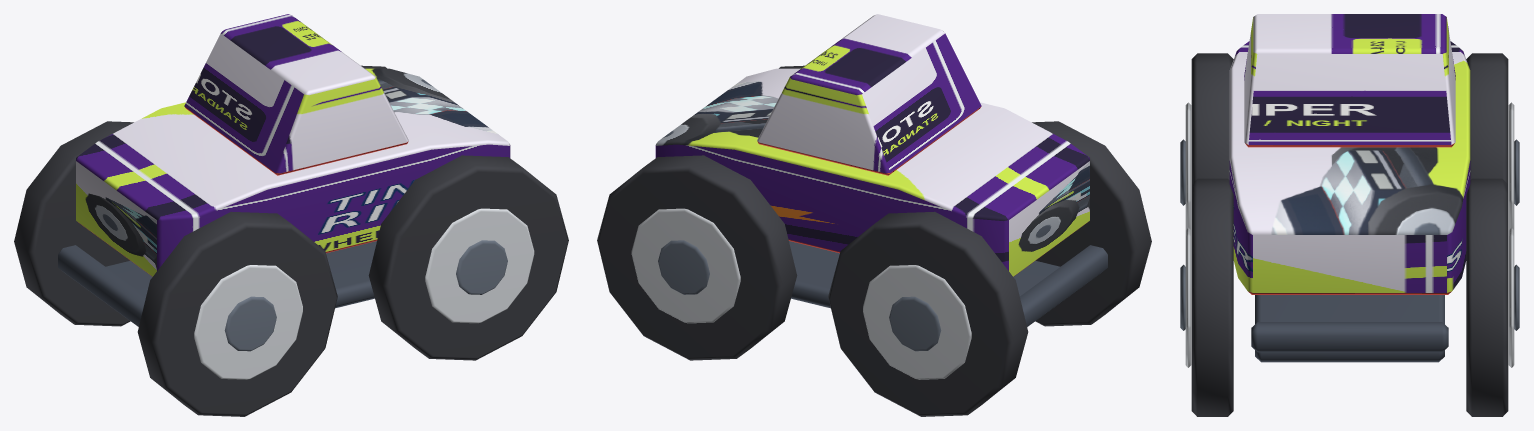
3 views of the same model, side by side, from view 1: azimuth 30°, elevation 25°; view 2: azimuth 150°, elevation 25°; view 3: azimuth 270°, elevation 25° (orthographic). The views are drawn at different scales.
Visible parts, largest first — view 1: BW-03_connected_shell, BW-03_cabin, Tire.002, Tire, Tire.001, Rim.002, Rim, underbody, front bumper, Hub.002, Hub; view 2: BW-03_connected_shell, BW-03_cabin, Tire.003, Tire.001, Tire, Rim.003, Rim.001, underbody, front bumper, Hub.003, Hub.001; view 3: BW-03_connected_shell, BW-03_cabin, Tire.002, Tire.003, underbody, rear bumper, Tire, Tire.001, Rim.002, Rim.003, Rim, Rim.001 (+4 smaller).
Boxes of the visible parts, left/top/right/bottom form: BW-03_connected_shell: left=76, top=68, right=510, bottom=276; BW-03_cabin: left=184, top=14, right=408, bottom=175; Tire.002: left=368, top=155, right=568, bottom=360; Tire: left=137, top=211, right=337, bottom=416; Tire.001: left=14, top=121, right=133, bottom=326; Rim.002: left=425, top=208, right=534, bottom=323; Rim: left=194, top=265, right=302, bottom=379; underbody: left=105, top=241, right=376, bottom=308; front bumper: left=58, top=245, right=145, bottom=326; Hub.002: left=456, top=240, right=507, bottom=294; Hub: left=224, top=296, right=276, bottom=351; BW-03_connected_shell: left=655, top=68, right=1089, bottom=276; BW-03_cabin: left=757, top=14, right=981, bottom=175; Tire.003: left=597, top=155, right=797, bottom=360; Tire.001: left=828, top=211, right=1028, bottom=416; Tire: left=1032, top=121, right=1151, bottom=326; Rim.003: left=631, top=208, right=740, bottom=323; Rim.001: left=863, top=265, right=971, bottom=379; underbody: left=789, top=241, right=1060, bottom=308; front bumper: left=1020, top=245, right=1107, bottom=326; Hub.003: left=658, top=240, right=709, bottom=294; Hub.001: left=889, top=296, right=941, bottom=351; BW-03_connected_shell: left=1229, top=41, right=1470, bottom=294; BW-03_cabin: left=1244, top=14, right=1455, bottom=147; Tire.002: left=1191, top=178, right=1233, bottom=416; Tire.003: left=1466, top=178, right=1508, bottom=416; underbody: left=1255, top=295, right=1444, bottom=362; rear bumper: left=1251, top=322, right=1448, bottom=352; Tire: left=1191, top=53, right=1233, bottom=183; Tire.001: left=1466, top=53, right=1508, bottom=183; Rim.002: left=1185, top=228, right=1191, bottom=367; Rim.003: left=1508, top=228, right=1514, bottom=367; Rim: left=1185, top=102, right=1191, bottom=229; Rim.001: left=1508, top=102, right=1514, bottom=229.
Size of the model in its own units: 331 by 216 by 210.
